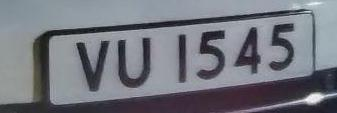1: (164, 26, 198, 86)
4: (231, 18, 268, 82)
5: (262, 16, 300, 78), (193, 22, 231, 84)
U: (113, 32, 158, 92)
V: (70, 34, 110, 93)
